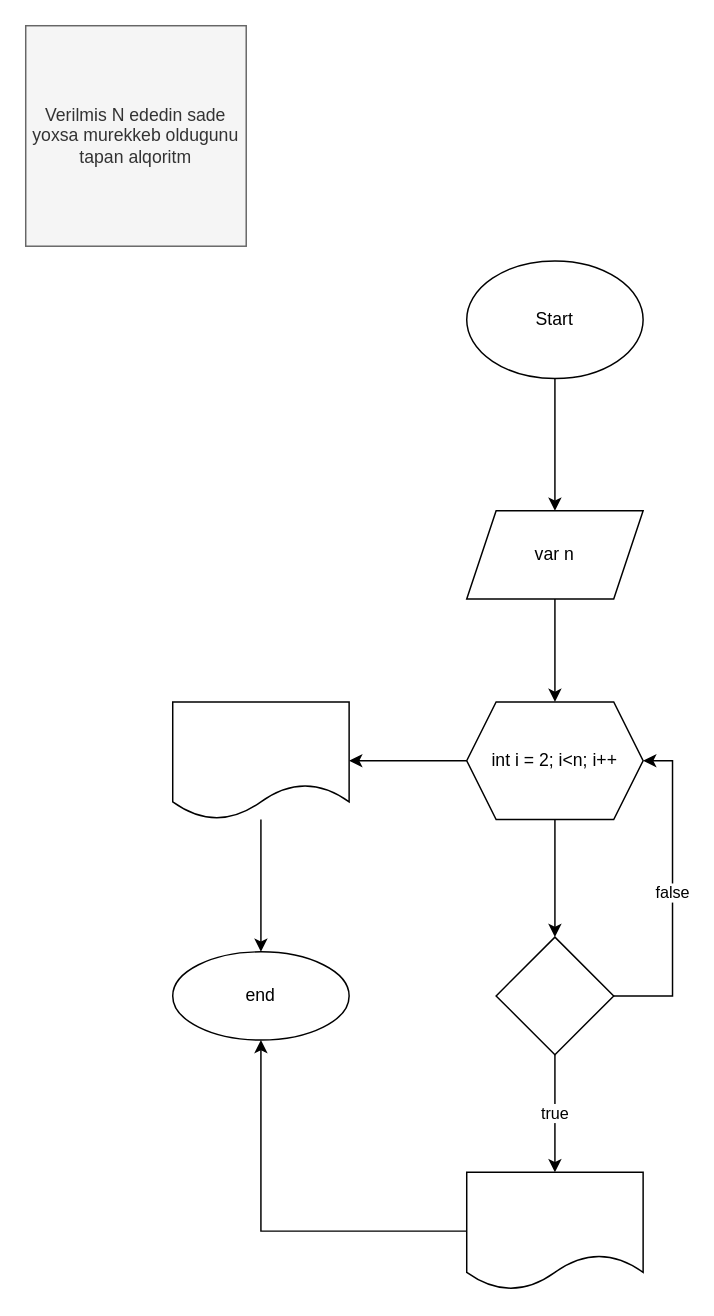
Some shapes in this 714 by 1316 pixel diagram are drawn without their labels. Each missing label, with the box of its shape:
n ededi murekkebdir: (465, 1171, 643, 1290)
n sade ededdir: (171, 700, 349, 820)
n%i == 0: (495, 936, 614, 1055)
